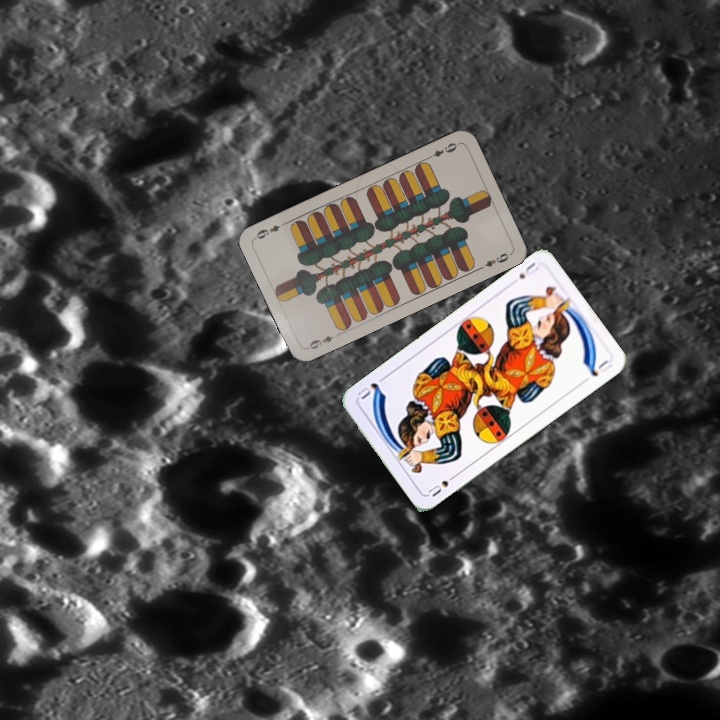E9: (423, 139, 461, 162), (303, 330, 342, 352)
SU: (424, 469, 460, 499), (515, 258, 542, 282)
